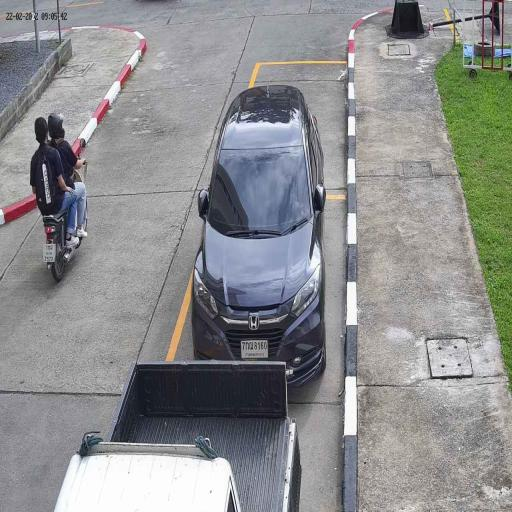car: (190, 83, 328, 384), (52, 359, 303, 512)
motorcycle: (42, 216, 72, 284)
